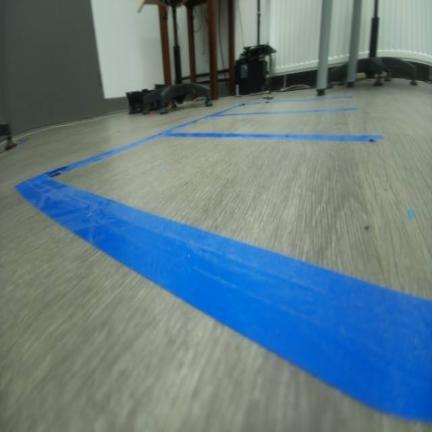place: (18, 128, 431, 425), (161, 106, 383, 141), (211, 95, 359, 116)
